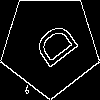D: (25, 20, 81, 76)
